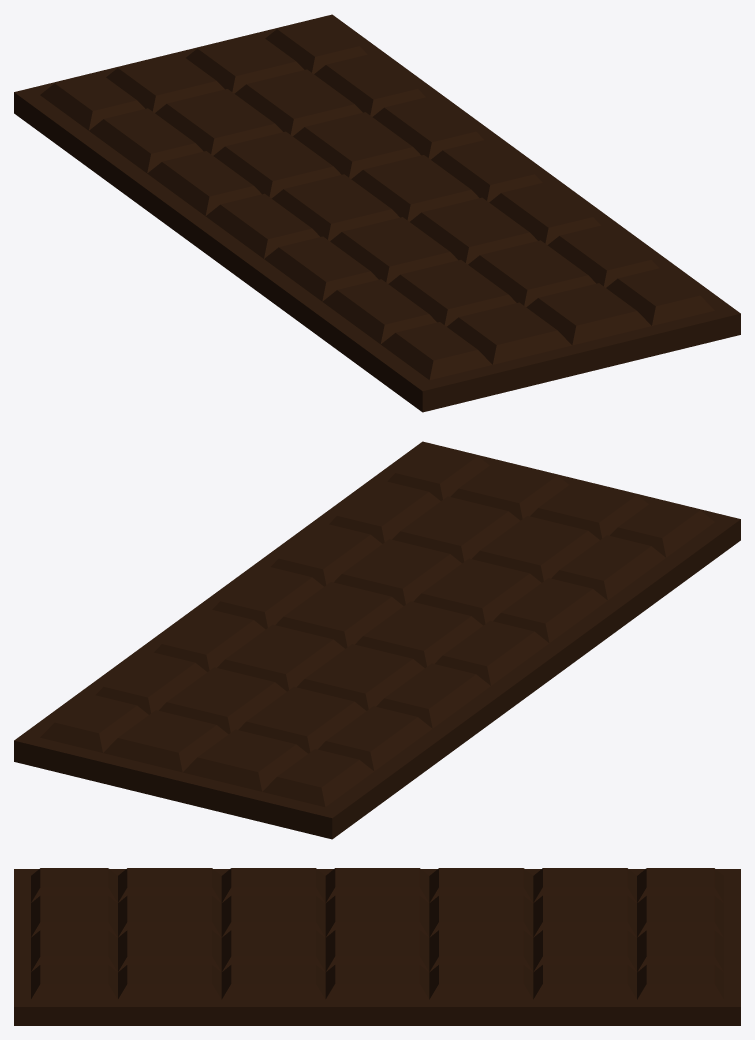
Rendered from Chocolate.fbx.
3 renders of one model, top to bottom at view 1: azimuth 30°, elevation 25°; view 2: azimuth 150°, elevation 25°; view 3: azimuth 270°, elevation 25°, orthographic. The views are drawn at different scales.
Visible parts, largest first — view 1: Chocolate; view 2: Chocolate; view 3: Chocolate.
Part boxes in pixels (x1,y1,x2,y2): Chocolate: [14, 14, 740, 412]; Chocolate: [14, 441, 740, 839]; Chocolate: [14, 868, 740, 1025].
Bounding box in the file's own units: 53.06 × 5.53 × 118.
